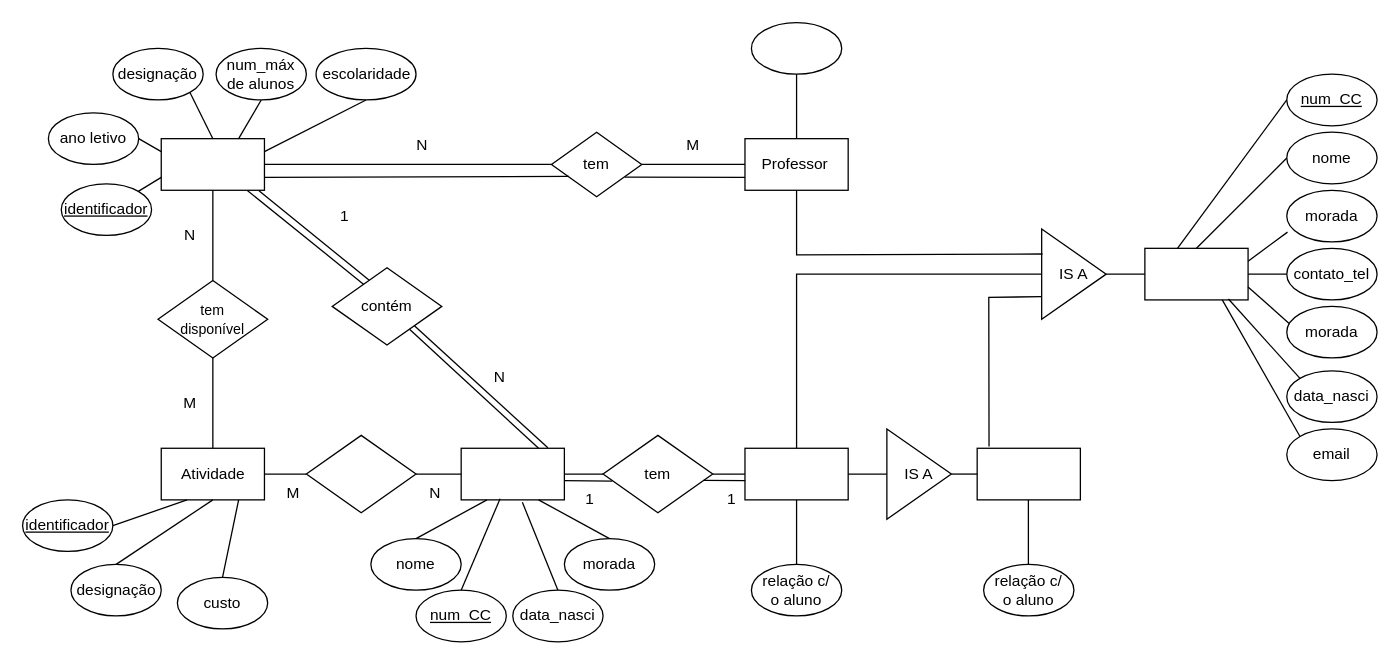
Image size: 1400x664. Some labels were removed from this diagram. The box of each missing label's shape, as (x1, y1, x2, y2) in pixels:
Aluno: (460, 447, 564, 500)
Autorizado a levar/buscar: (976, 447, 1080, 500)
Encarregado de Educação: (744, 447, 848, 500)
número funcionário: (750, 21, 842, 74)
Pessoa: (1144, 247, 1248, 300)
recebe: (305, 434, 416, 513)
Turma: (160, 137, 264, 190)
